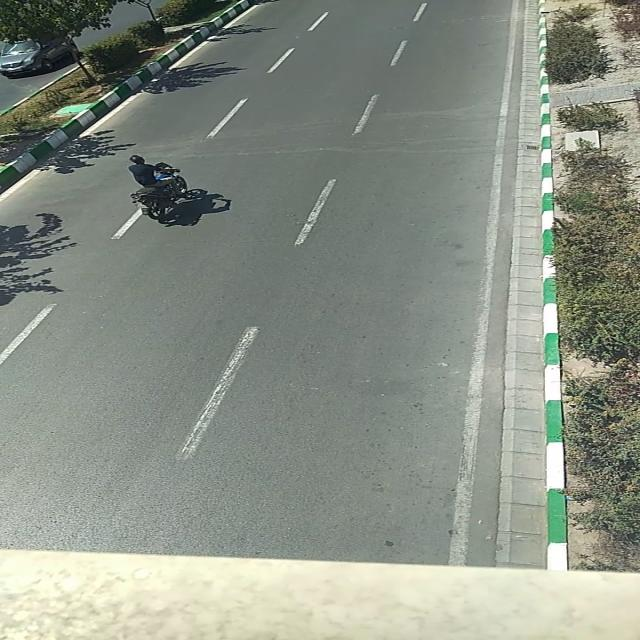car: (3, 32, 81, 78)
motor: (127, 156, 186, 221)
